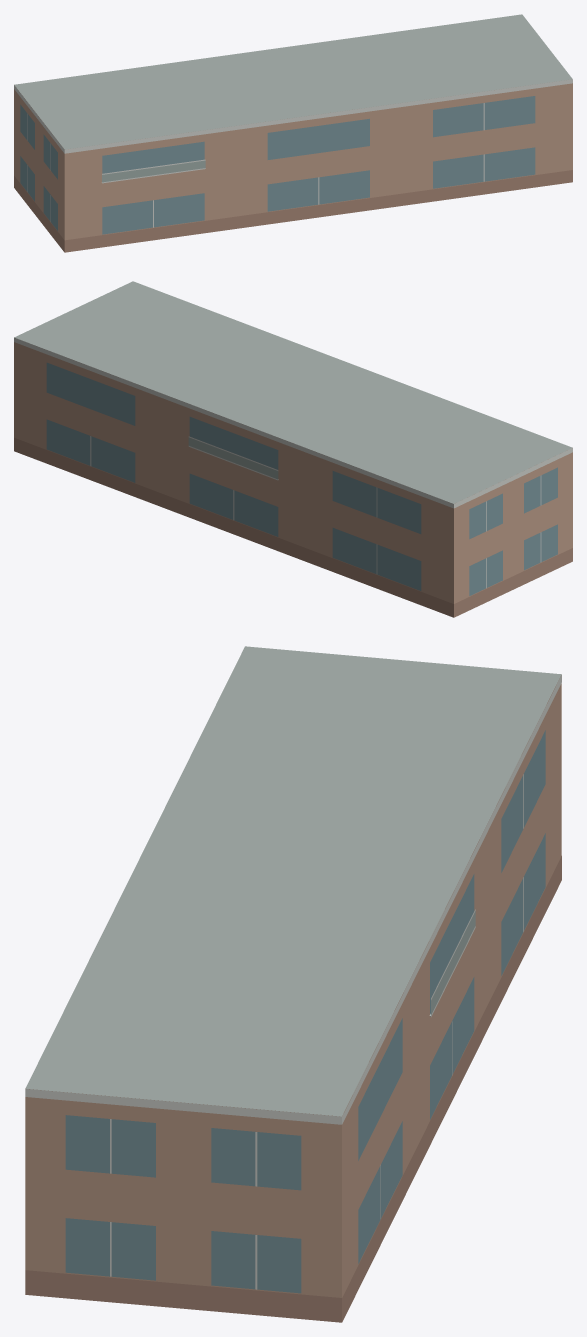
File: survey-upis-32803884.glb
3 views of the same model, one above another, from view 1: azimuth 30°, elevation 25°; view 2: azimuth 150°, elevation 25°; view 3: azimuth 270°, elevation 25° (orthographic). The views are drawn at different scales.
Parts seen in each view (by area): view 1: survey-upis-32803884.tmp; view 2: survey-upis-32803884.tmp; view 3: survey-upis-32803884.tmp.
Boxes of the visible parts, x1=… form: survey-upis-32803884.tmp: x1=14, y1=14, x2=572, y2=252; survey-upis-32803884.tmp: x1=14, y1=281, x2=572, y2=617; survey-upis-32803884.tmp: x1=25, y1=646, x2=561, y2=1322.
Size of the model in its own units: 29.87 by 6.1 by 14.41.
